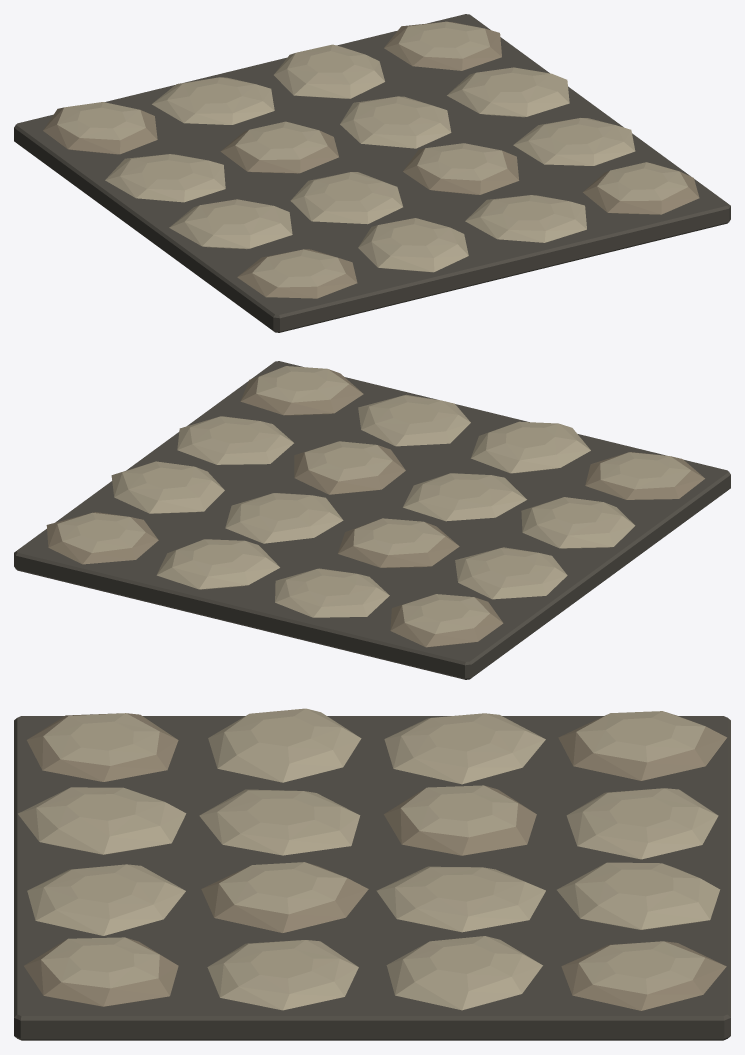
File: floor-rubble.glb
3 renders of one model, top to bottom at view 1: azimuth 30°, elevation 25°; view 2: azimuth 150°, elevation 25°; view 3: azimuth 270°, elevation 25°, orthographic. The views are drawn at different scales.
Parts seen in each view (by area): view 1: floor-rubble__body; view 2: floor-rubble__body; view 3: floor-rubble__body.
Part boxes in pixels (x1,y1,x2,y2): floor-rubble__body: (14, 14, 730, 332); floor-rubble__body: (14, 361, 730, 679); floor-rubble__body: (14, 708, 730, 1040).
Bounding box in the file's own units: 2 × 0.14 × 2.
